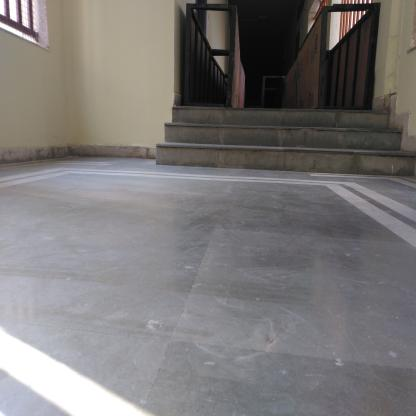stairs: (176, 107, 393, 175)
